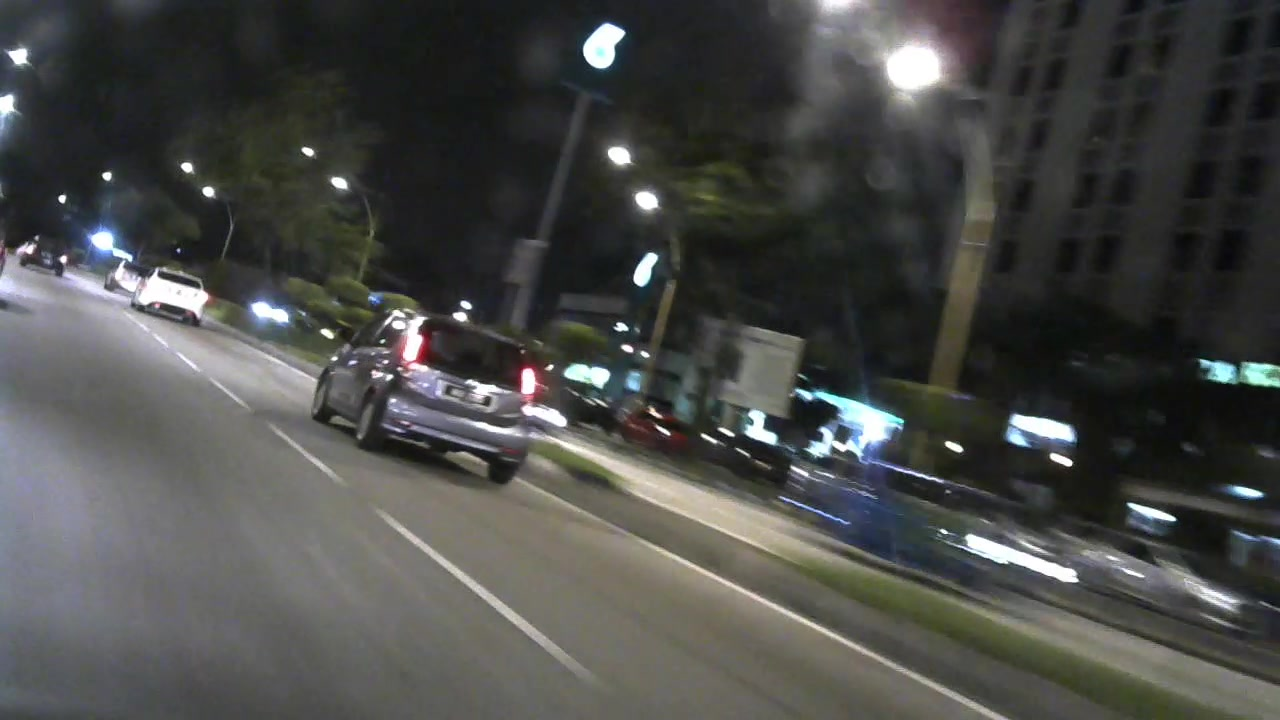Car: (306, 297, 546, 484), (809, 446, 1083, 583), (126, 265, 215, 334), (11, 234, 74, 282), (103, 260, 151, 294)
